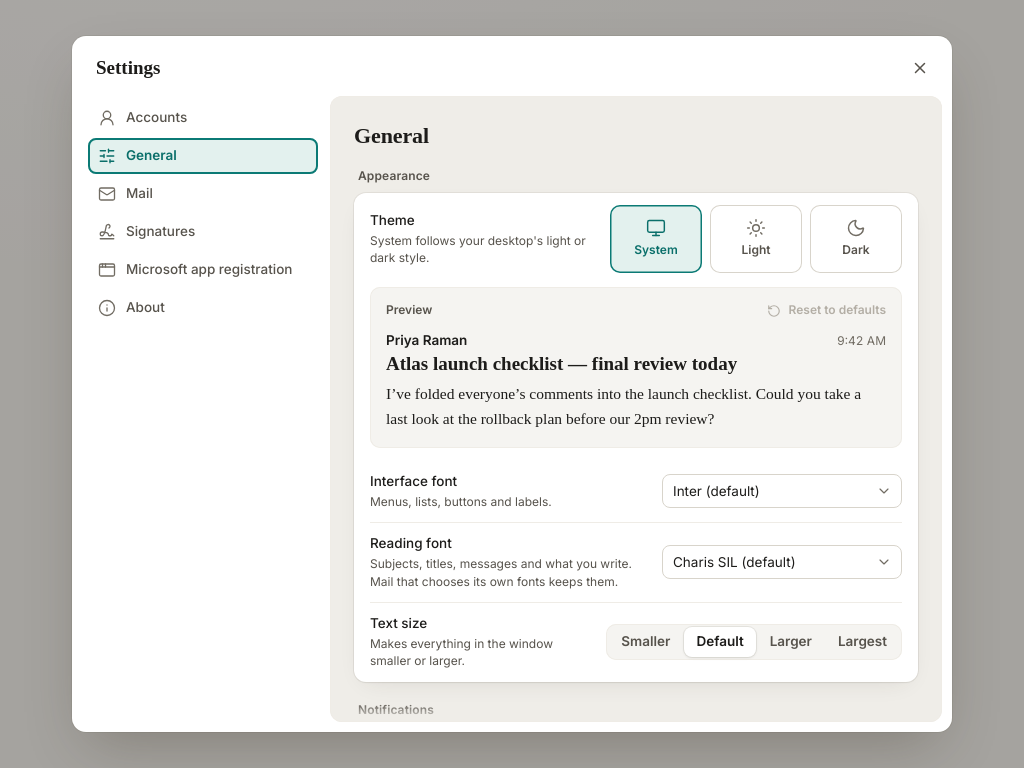
General › applies the theme immediately and saves it
expect the radio button labelled "System" is checked: met, box [610,205,702,273]
Click the radio button labelled "Dark".
click(856, 239)  # box [810,205,902,273]
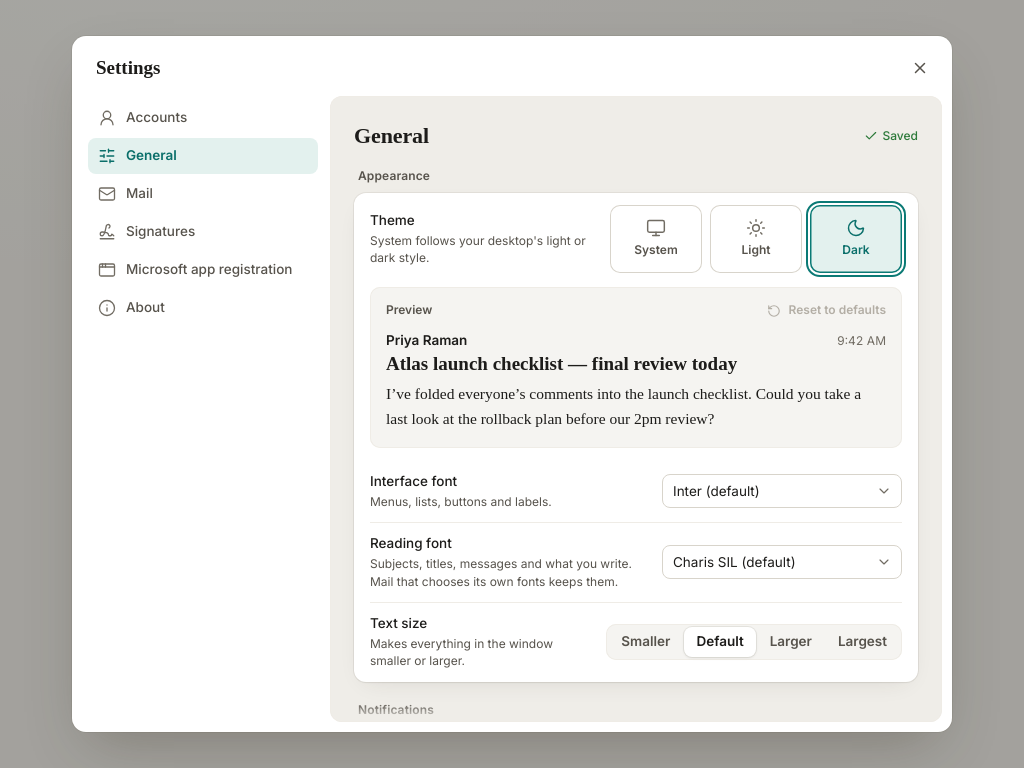
expect the radio button labelled "Dark" is checked: met, box [810,205,902,273]
expect the text "Saved" is shown: met, box [864,128,918,144]
